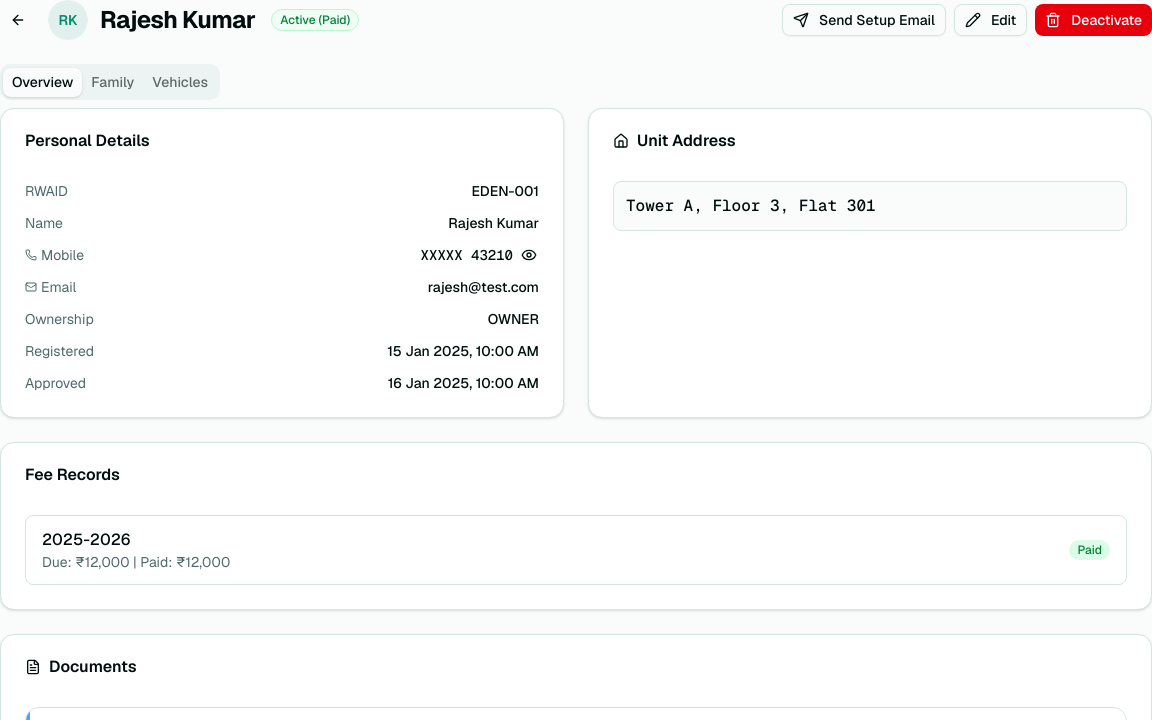
ResidentDetailPage › closes edit dialog on cancel
The width and height of the screenshot is (1152, 720).
Click the button "Edit" at [991, 20], box [954,4,1027,36]
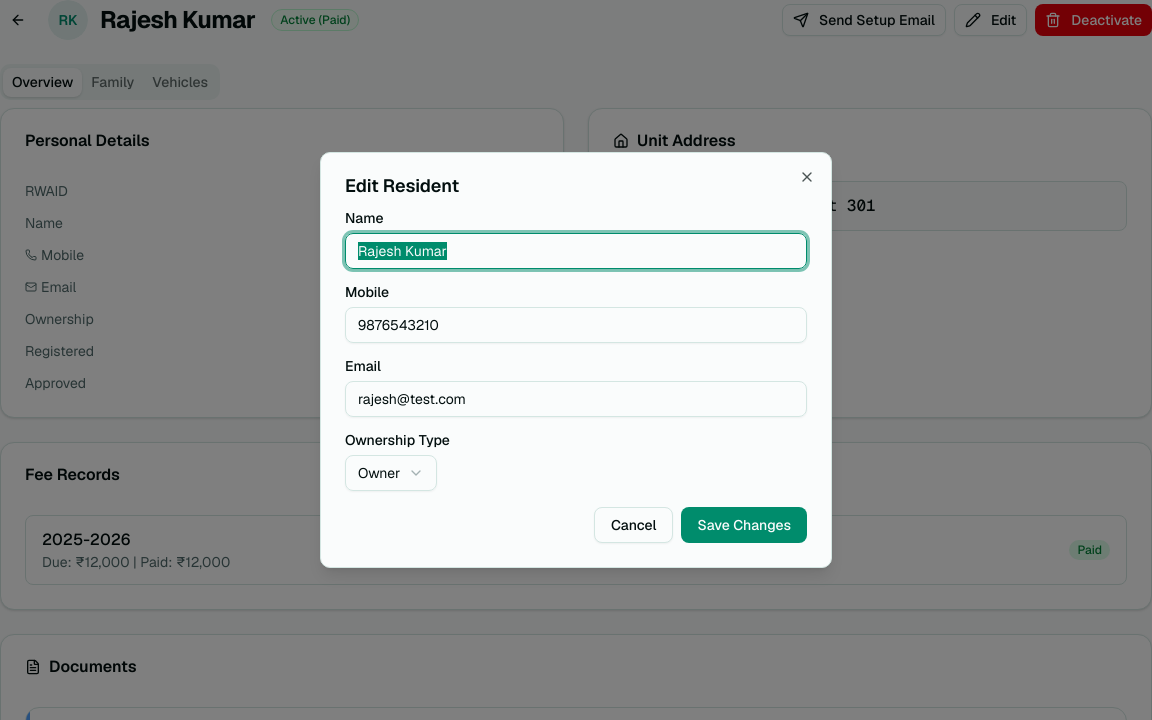
Check: the heading "Edit Resident" is shown, box [345,174,459,197]
Click the button "Cancel" at [634, 525], box [594,507,674,543]
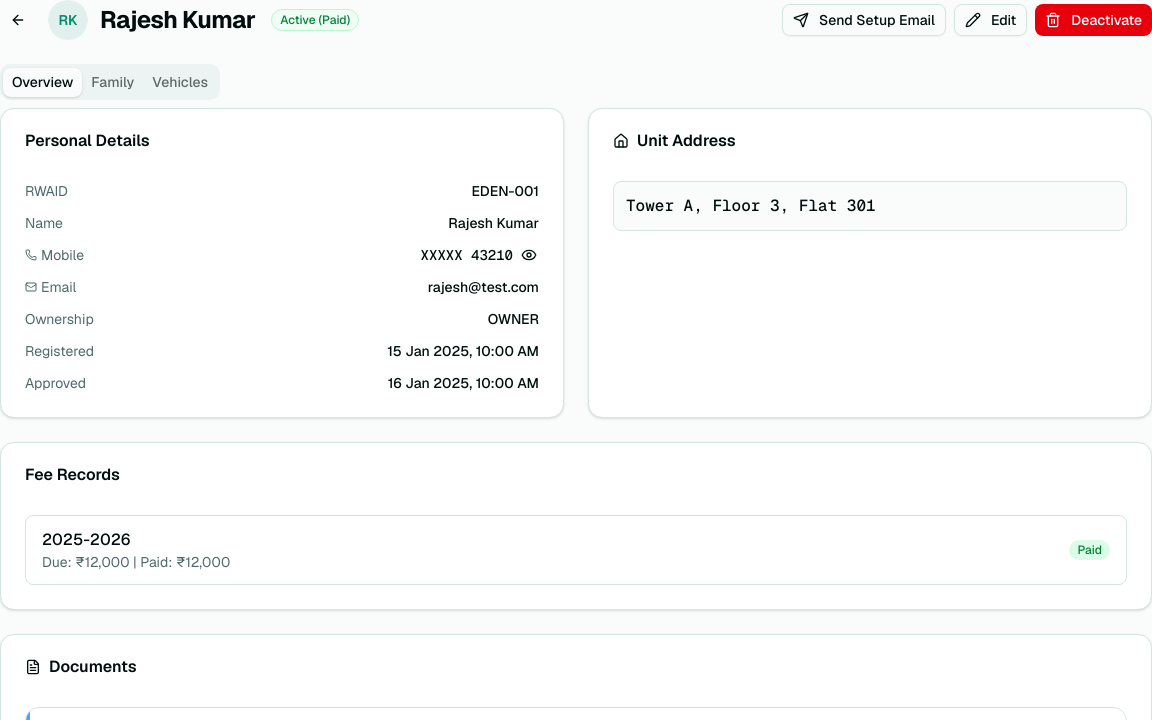
Check: the heading "Edit Resident" is gone
